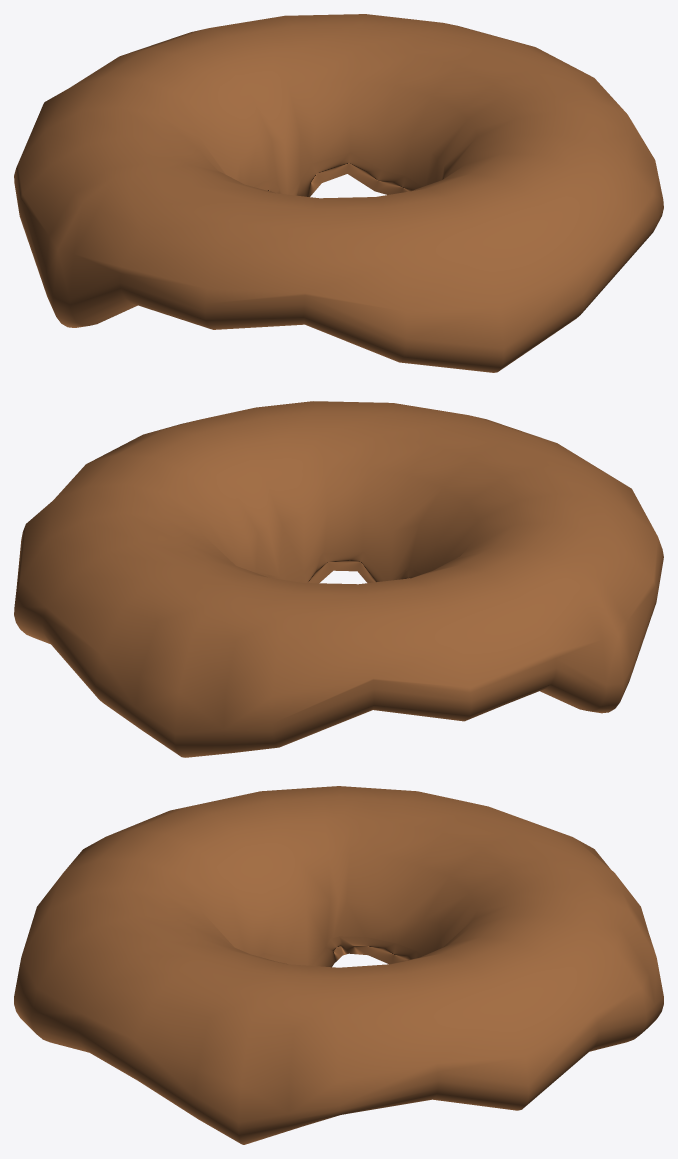
Rendered from donut-sos.fbx.
3 renders of one model, top to bottom at view 1: azimuth 30°, elevation 25°; view 2: azimuth 150°, elevation 25°; view 3: azimuth 270°, elevation 25°, orthographic.
Visible parts, largest first — view 1: donutsos1; view 2: donutsos1; view 3: donutsos1.
Part boxes in pixels (x1,y1,x2,y2): donutsos1: [14, 14, 663, 372]; donutsos1: [14, 401, 663, 757]; donutsos1: [14, 786, 663, 1144].
Bounding box in the file's own units: 86.81 × 23.18 × 87.18.
